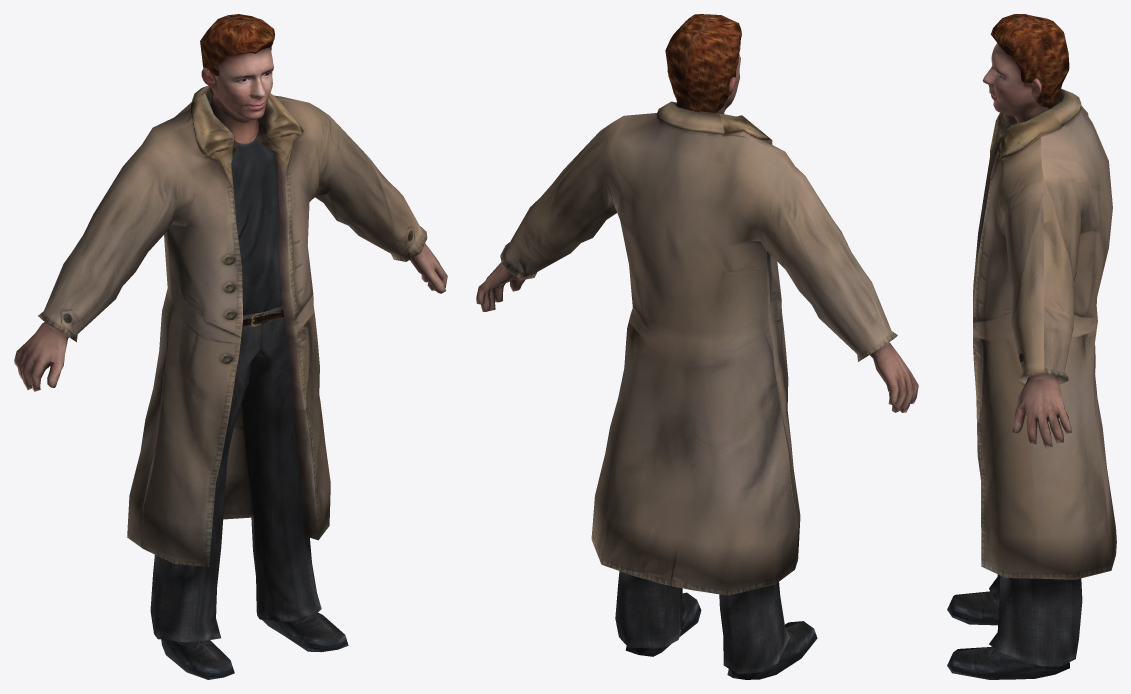
File: rick.glb
The picture shows the model from 3 angles, left to right: view 1: azimuth 30°, elevation 25°; view 2: azimuth 150°, elevation 25°; view 3: azimuth 270°, elevation 25°; orthographic projection. The views are drawn at different scales.
Visible parts, largest first — view 1: Object_2; view 2: Object_2; view 3: Object_2.
Part boxes in pixels (x1=…): Object_2: x1=14, y1=14, x2=447, y2=679; Object_2: x1=476, y1=14, x2=918, y2=679; Object_2: x1=947, y1=14, x2=1116, y2=679.
Size of the model in its own units: 56.22 by 79.8 by 19.65.
Materials: 1 (1 with a texture image).
